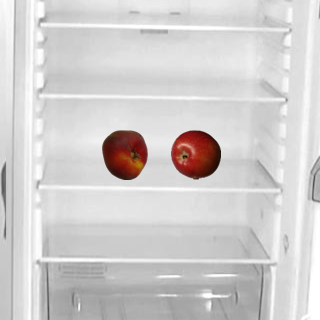Apple Braeburn: (170, 129, 220, 179)
Nectarine Flat: (99, 129, 149, 179)
